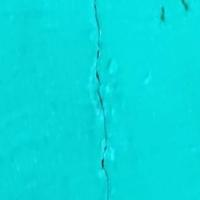crack: (74, 0, 120, 185)
